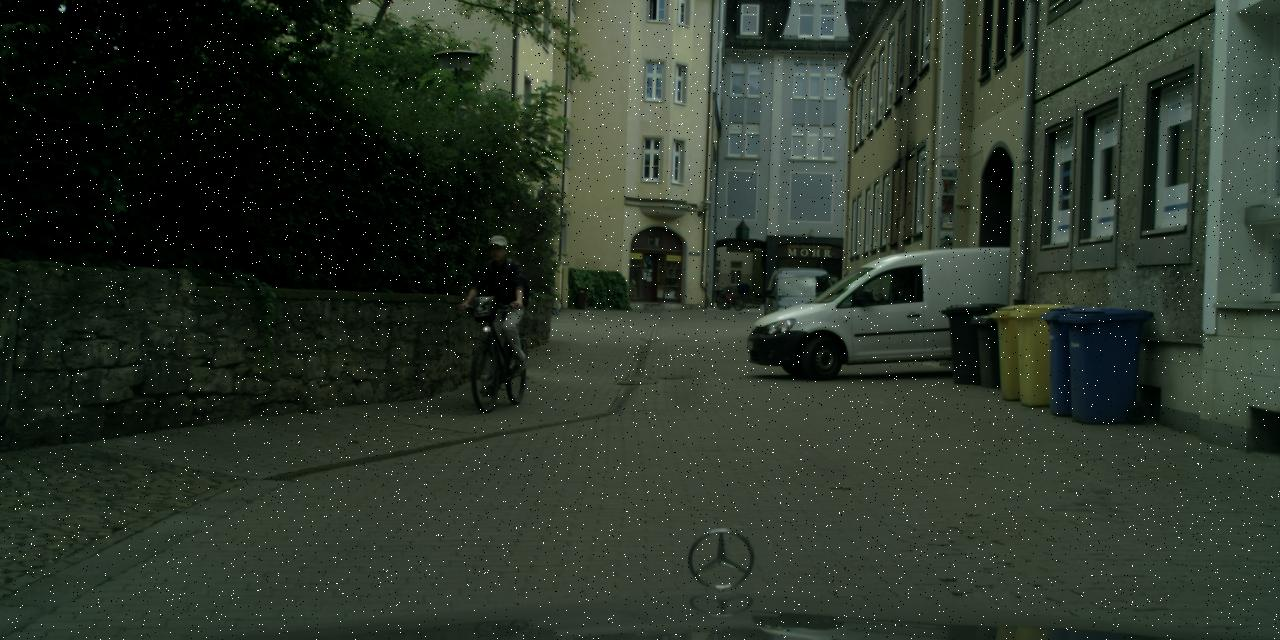ped: (470, 235, 530, 382)
